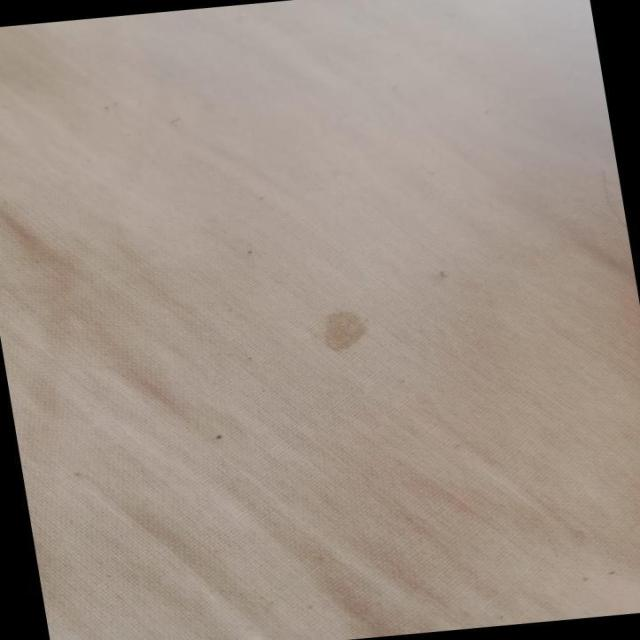stain: (311, 306, 380, 354), (194, 416, 247, 451), (421, 264, 464, 288)
